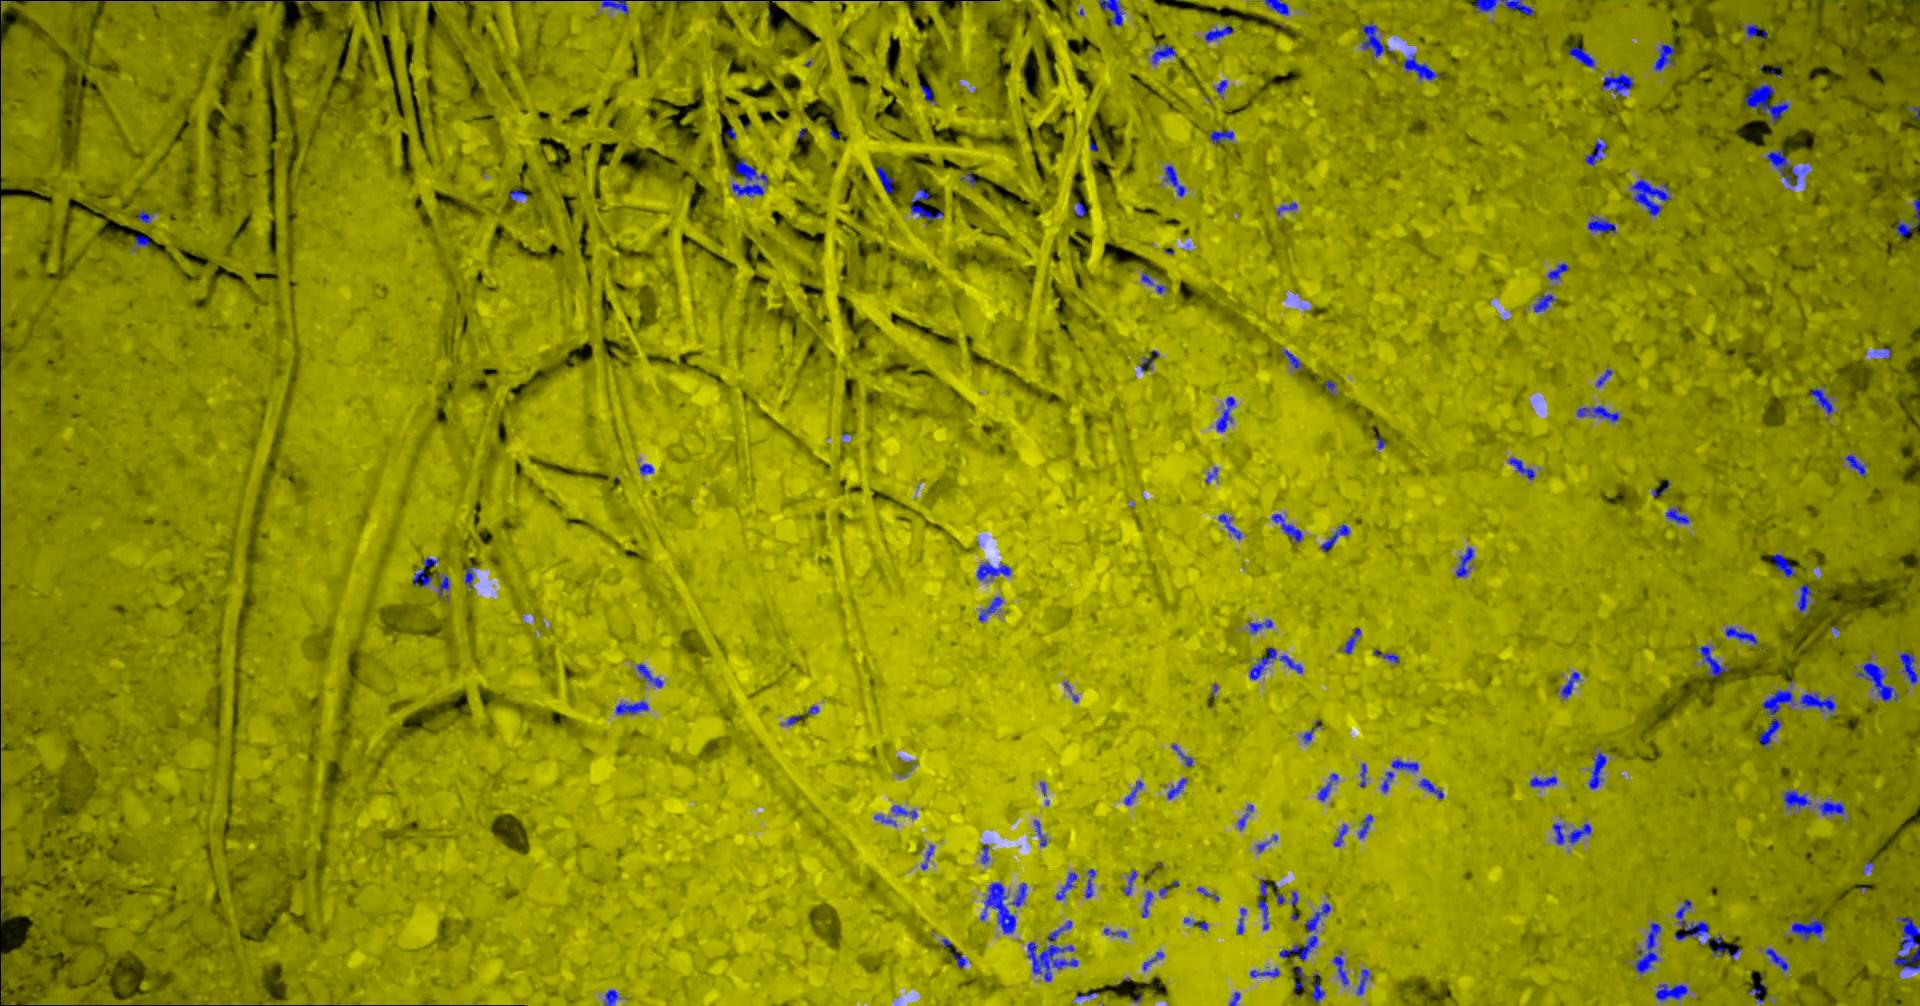ant: (1027, 920, 1078, 981), (1279, 902, 1330, 960), (1757, 682, 1796, 747), (1743, 83, 1789, 123), (980, 882, 1015, 934), (1248, 647, 1302, 680), (1857, 661, 1897, 701), (1766, 149, 1804, 185), (731, 156, 767, 196), (1674, 899, 1708, 940), (1893, 916, 1919, 970), (1630, 179, 1669, 215), (1634, 922, 1661, 973), (1380, 758, 1418, 793), (910, 188, 943, 221), (1402, 53, 1443, 80), (1895, 197, 1919, 241), (1697, 645, 1730, 677), (1360, 23, 1390, 56), (1472, 0, 1533, 15), (1271, 513, 1302, 542), (1550, 822, 1591, 843), (1799, 692, 1835, 716), (1705, 935, 1740, 959), (1319, 523, 1349, 551), (1601, 72, 1633, 97), (411, 558, 438, 586), (1790, 918, 1823, 940), (1587, 751, 1606, 788), (1576, 405, 1618, 422), (1163, 164, 1185, 196), (1215, 396, 1234, 431), (977, 596, 1002, 621), (1898, 652, 1919, 683), (1317, 772, 1338, 801), (977, 561, 1010, 580), (1098, 0, 1123, 25), (636, 663, 662, 687), (1583, 138, 1606, 165), (1724, 626, 1757, 644), (1771, 553, 1796, 577), (1810, 387, 1832, 413), (1218, 513, 1241, 539), (1653, 43, 1675, 70), (1507, 457, 1534, 479), (1257, 879, 1269, 929), (1568, 46, 1594, 67), (1142, 272, 1167, 293), (1655, 983, 1688, 1000), (1055, 873, 1076, 899), (1331, 954, 1349, 984), (875, 166, 894, 194), (1559, 671, 1578, 699), (1150, 43, 1176, 64), (1587, 215, 1615, 232), (1455, 547, 1473, 575), (1783, 790, 1811, 808), (1765, 948, 1787, 970), (1204, 24, 1233, 41), (1171, 744, 1192, 766), (615, 700, 648, 714), (1533, 293, 1557, 312), (1302, 719, 1321, 743), (1418, 779, 1443, 798), (1124, 780, 1142, 805), (1797, 583, 1812, 612), (1309, 973, 1324, 1002), (1281, 349, 1303, 370), (1845, 453, 1865, 475), (1343, 627, 1360, 653), (1237, 804, 1253, 829), (1142, 951, 1163, 970), (1255, 835, 1277, 852), (1356, 968, 1371, 995), (1749, 982, 1766, 1005), (1010, 882, 1026, 906), (601, 0, 629, 14), (919, 843, 935, 869), (1547, 262, 1568, 279), (1665, 507, 1688, 523), (1818, 801, 1845, 815), (1263, 0, 1288, 15), (1167, 779, 1186, 798), (1208, 130, 1233, 144), (1032, 821, 1046, 846), (1123, 870, 1137, 895), (1293, 967, 1305, 995), (1332, 823, 1347, 846), (1371, 649, 1398, 662), (1529, 775, 1556, 788), (1248, 619, 1272, 633), (1357, 814, 1371, 838), (919, 83, 935, 104), (891, 805, 917, 818), (1743, 24, 1766, 38), (1183, 917, 1208, 930), (1084, 868, 1095, 897), (1250, 967, 1279, 977), (1595, 368, 1611, 386), (437, 573, 450, 596), (872, 814, 897, 826), (1275, 202, 1297, 215), (1142, 890, 1152, 917), (1236, 907, 1246, 934), (952, 948, 966, 967), (463, 567, 476, 586), (508, 189, 527, 201), (603, 989, 617, 1005), (1103, 929, 1126, 937), (1359, 763, 1366, 788), (135, 234, 149, 246), (1324, 379, 1335, 395), (137, 210, 150, 222), (639, 464, 653, 475), (1074, 201, 1084, 216), (980, 843, 988, 862), (0, 955, 1, 1005)
